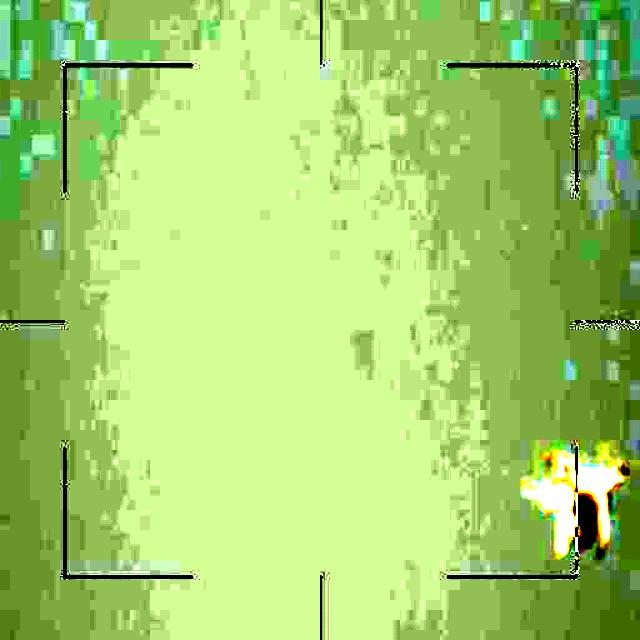bird: (515, 455, 630, 556)
